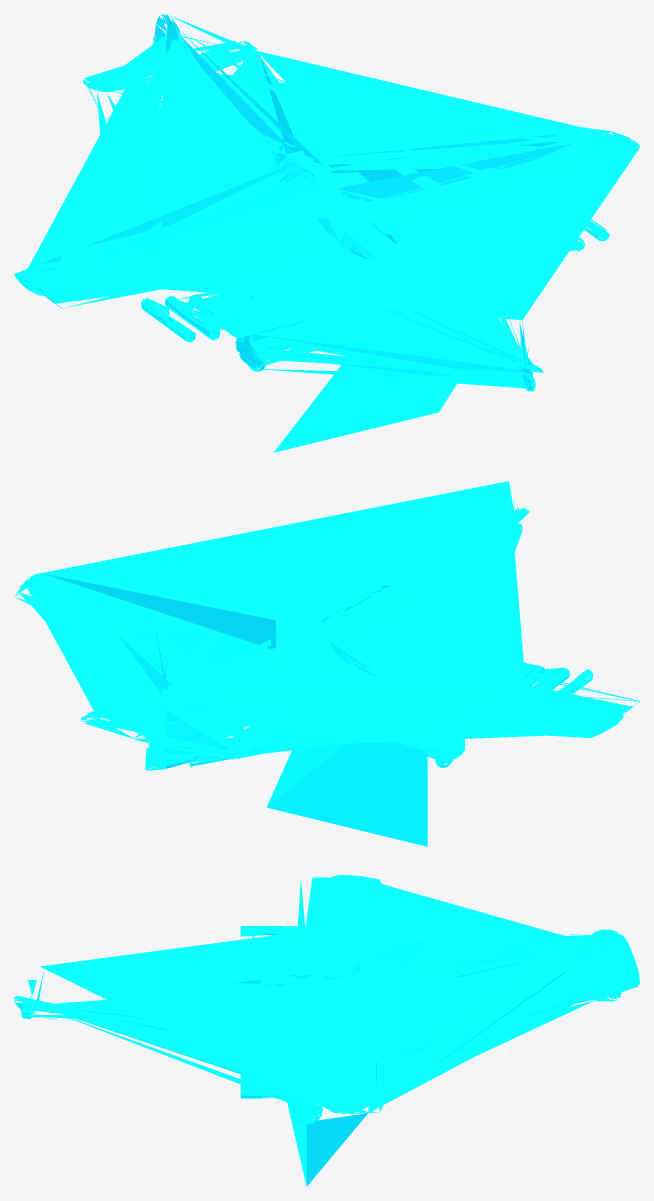
File: PGAF951.glb
3 views of the same model, one above another, from view 1: azimuth 30°, elevation 25°; view 2: azimuth 150°, elevation 25°; view 3: azimuth 270°, elevation 25° (orthographic). The views are drawn at different scales.
Visible parts, largest first — view 1: misc; view 2: misc; view 3: misc.
Part boxes in pixels (box(x1,y1,x2,y2)): misc: box(14, 14, 639, 452); misc: box(14, 481, 639, 846); misc: box(14, 875, 639, 1186).
Size of the model in its own units: 0.7408 by 0.3262 by 0.8225.
